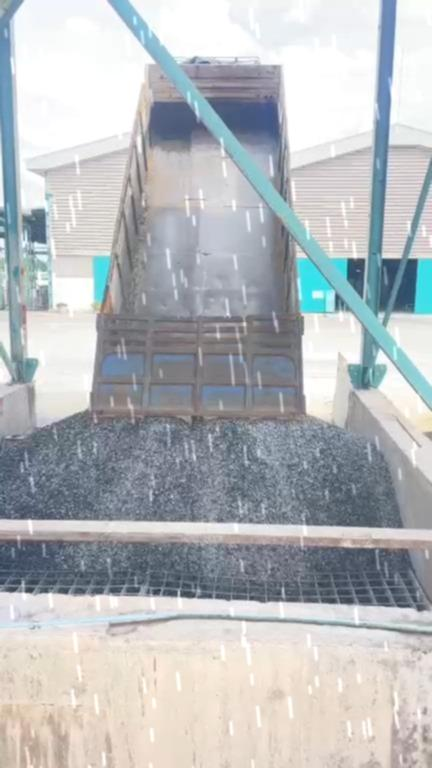gravel: (0, 413, 400, 526), (0, 545, 406, 577)
